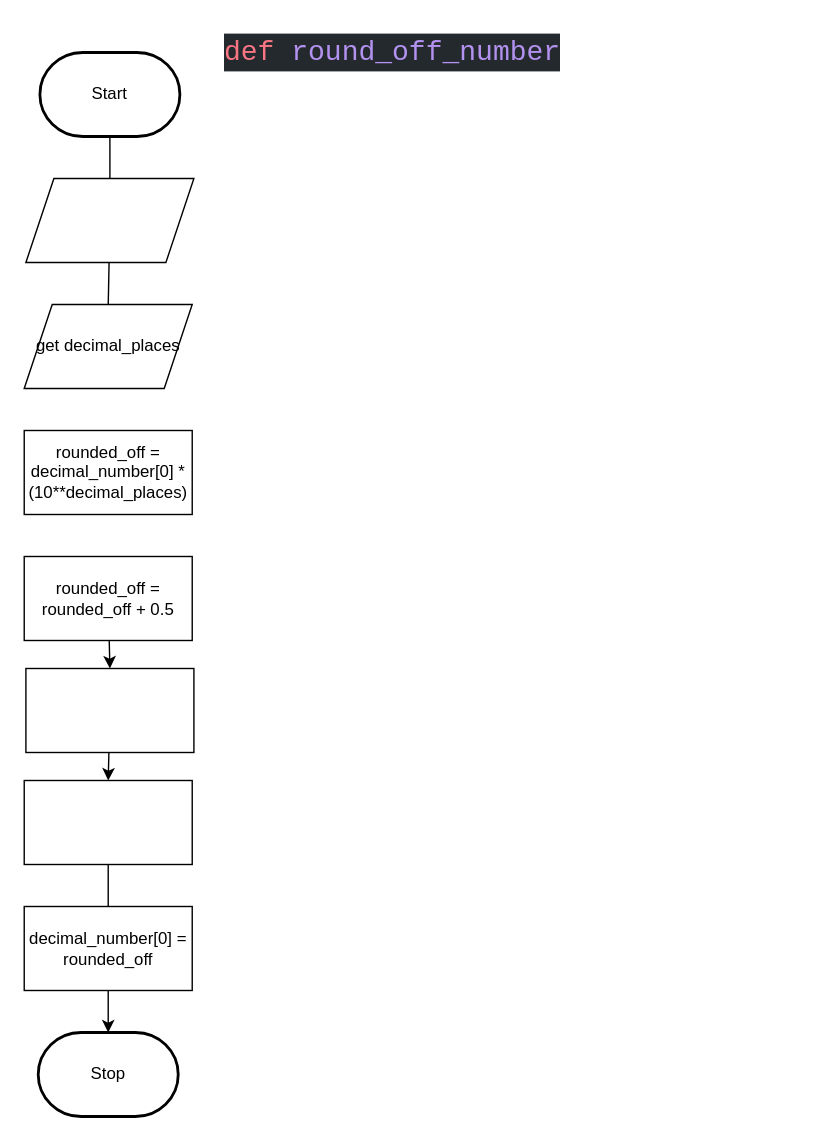
Some shapes in this 820 by 1141 pixel diagram are drawn without their labels. Here are the shapes that lost their labels. From the top down, the centre of each, then its label:
point (109, 219): get decimal_number
point (109, 709): rounded_off = int(rounded_off)
point (107, 821): rounded_off = rounded_off / (10**decimal_places)
